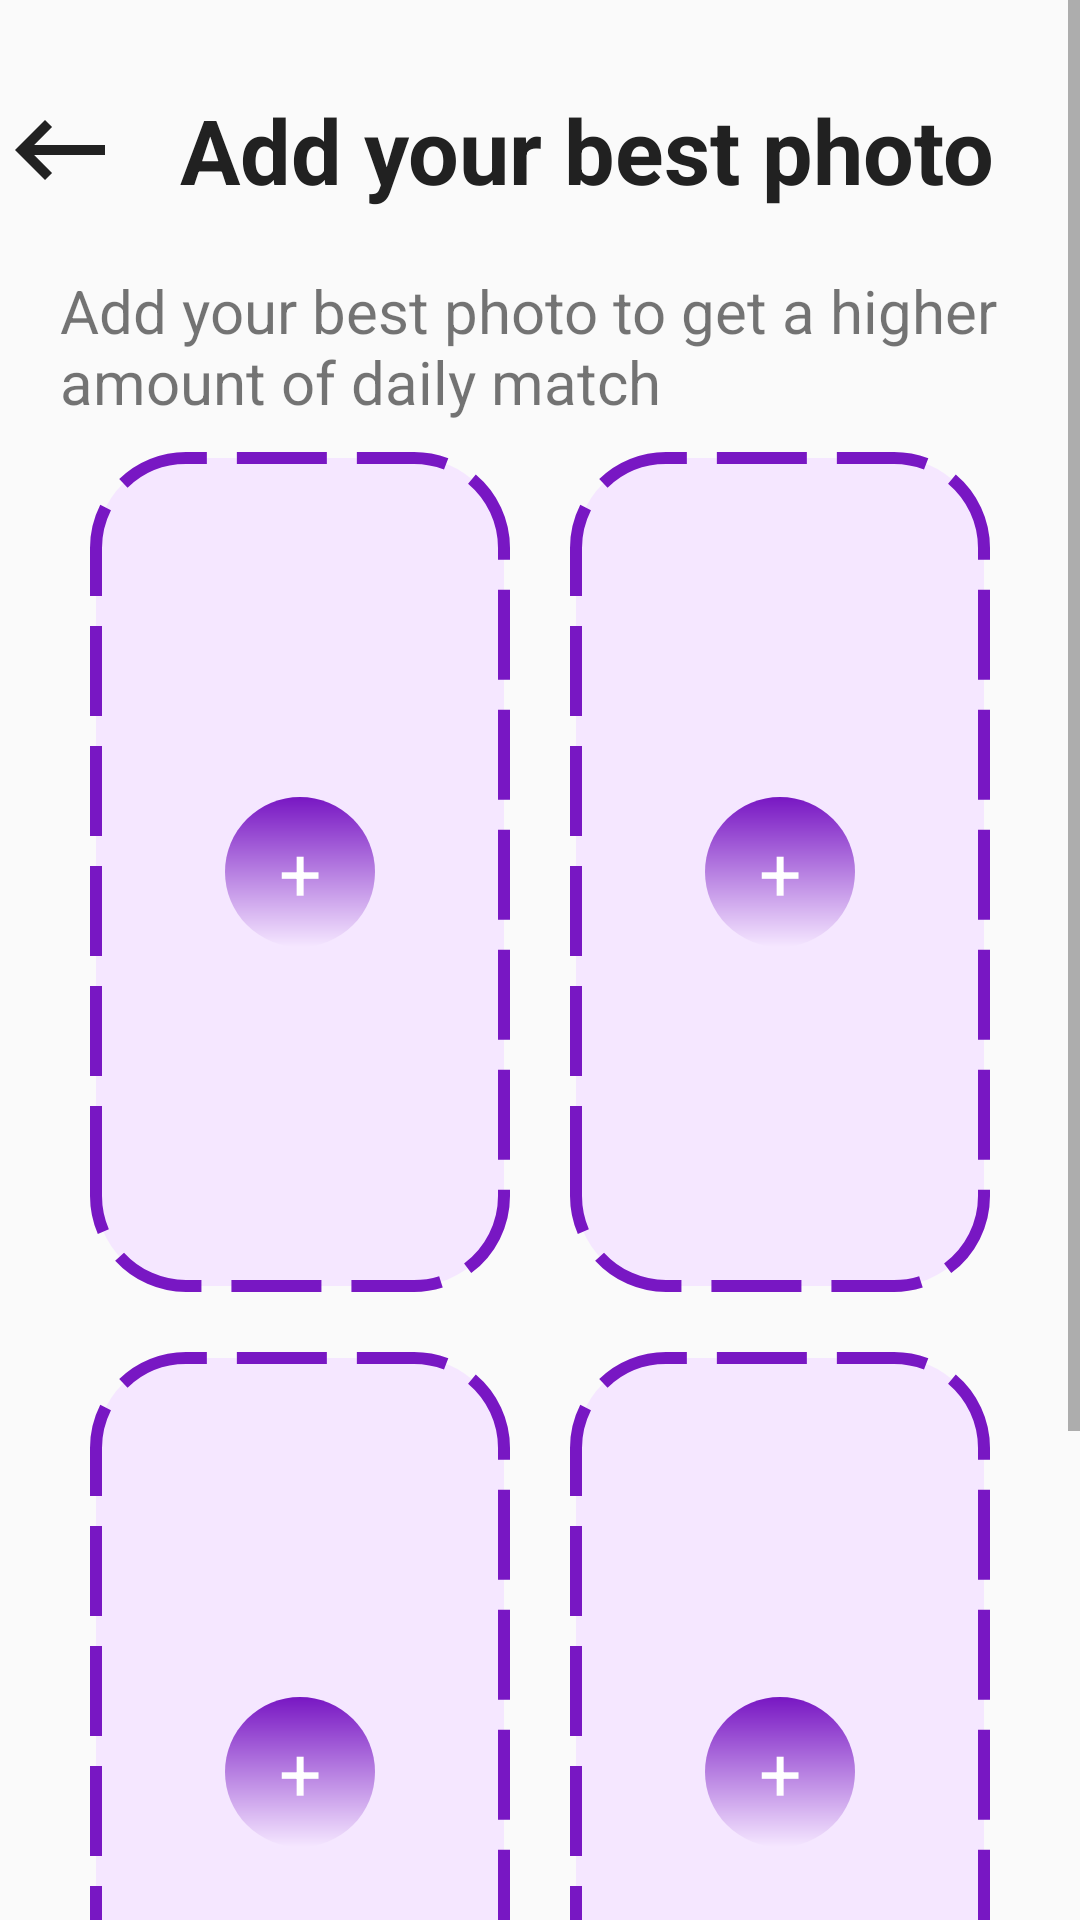

Where icons sit on this 1080x1920 app screen, as detection(x1, y1, x2, y2):
keyboard backspace: detection(15, 120, 105, 180)
